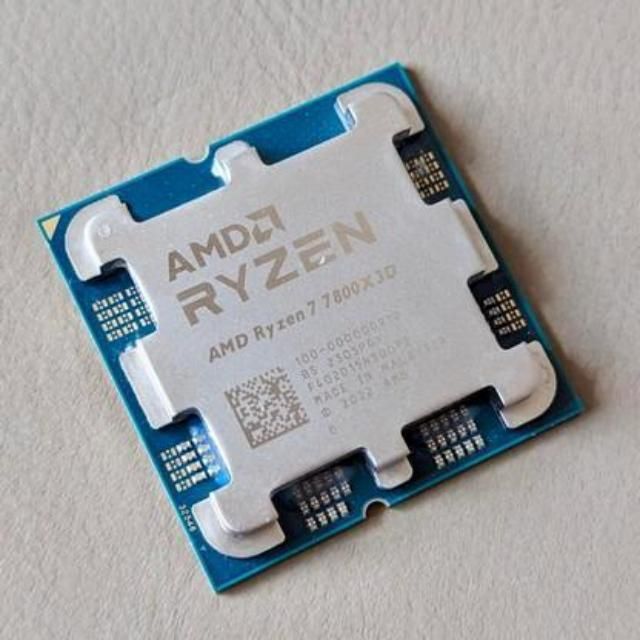CPU: (69, 90, 560, 552)
